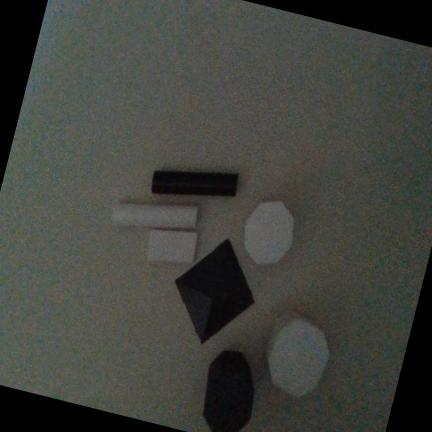Cilindro: (151, 171, 238, 196), (110, 203, 197, 228)
Paralelepipedo: (146, 229, 197, 263)
Piramide: (174, 237, 254, 343)
Prisma_hexagonal: (266, 313, 329, 397), (202, 351, 253, 432), (244, 201, 293, 264)
